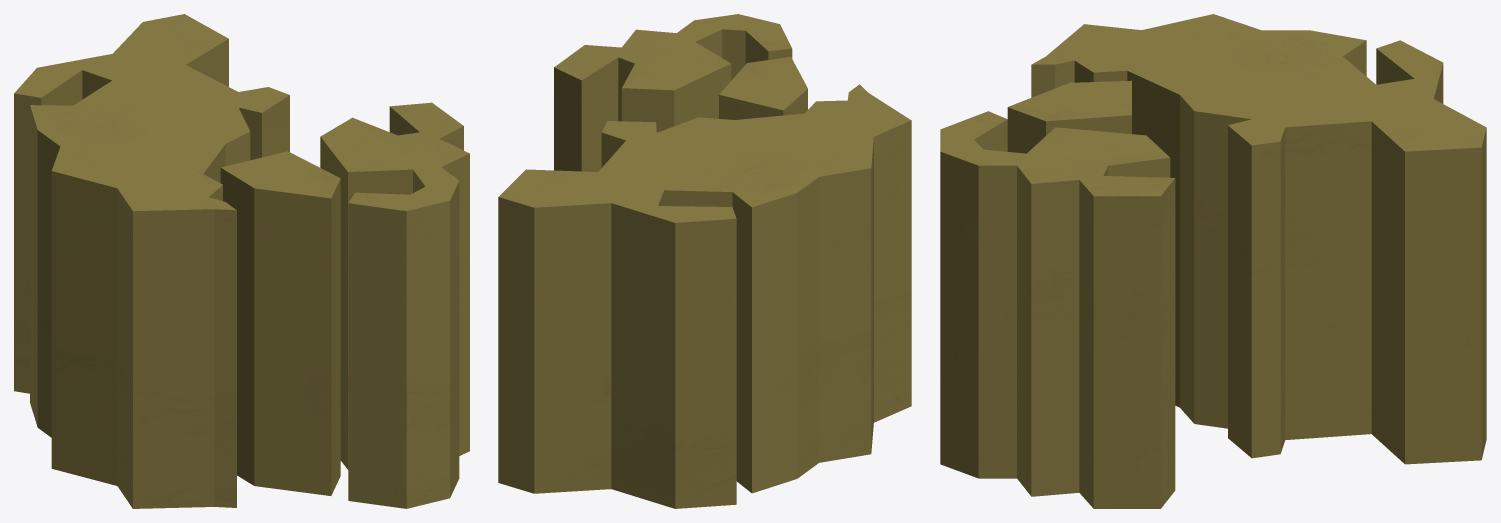
Rendered from denmark.DAE.
3 views of the same model, side by side, from view 1: azimuth 30°, elevation 25°; view 2: azimuth 150°, elevation 25°; view 3: azimuth 270°, elevation 25° (orthographic). The views are drawn at different scales.
Parts seen in each view (by area): view 1: Denmark; view 2: Denmark; view 3: Denmark.
Boxes of the visible parts, x1,y1,x2,y2 form: Denmark: (14, 14, 469, 508); Denmark: (498, 14, 911, 508); Denmark: (940, 14, 1486, 508).
Bounding box in the file's own units: 31.22 × 39.55 × 25.
Materials: 1 (1 with a texture image).
